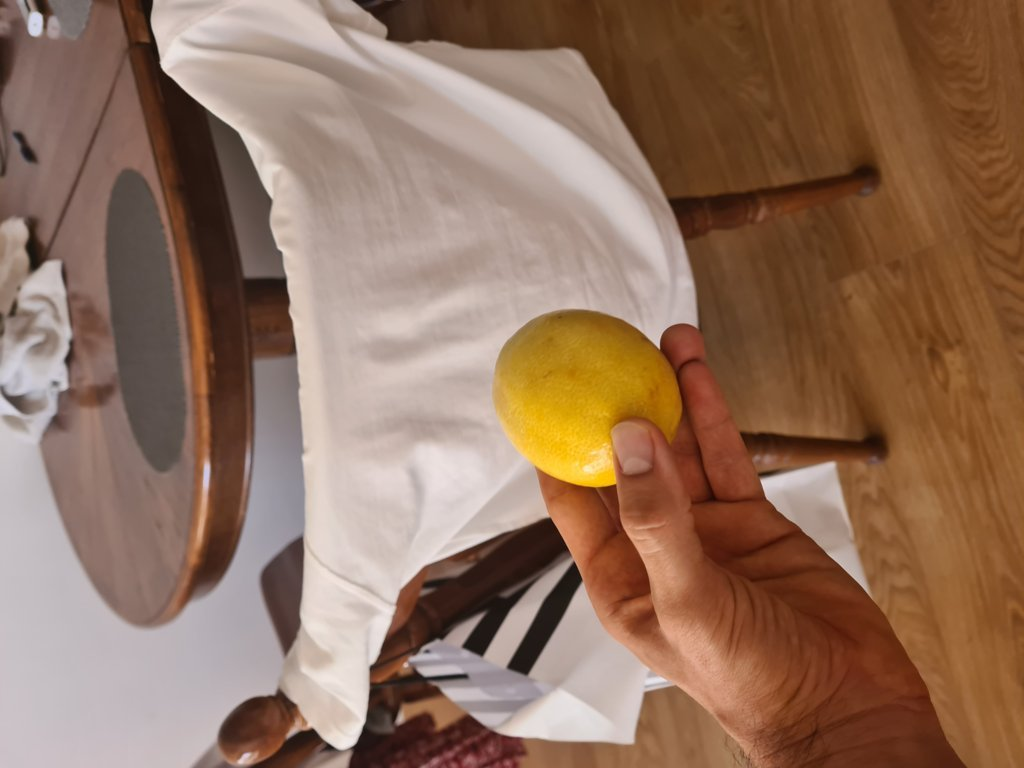lemon: (494, 314, 677, 477)
